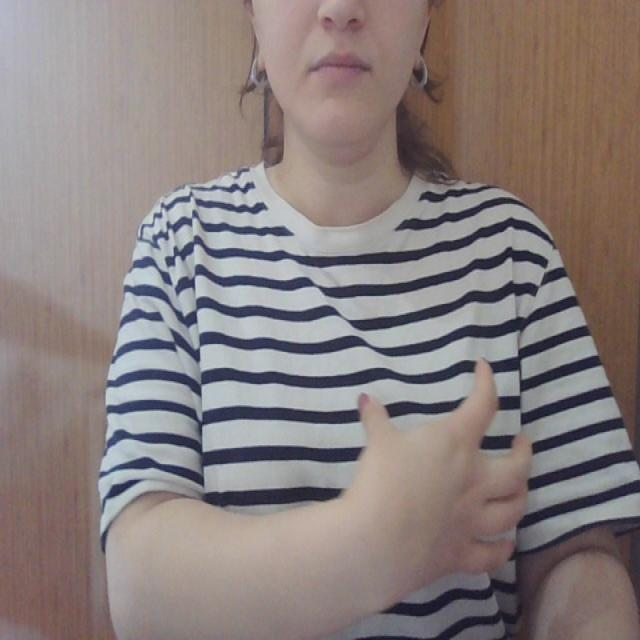Anne: (345, 356, 547, 580)
